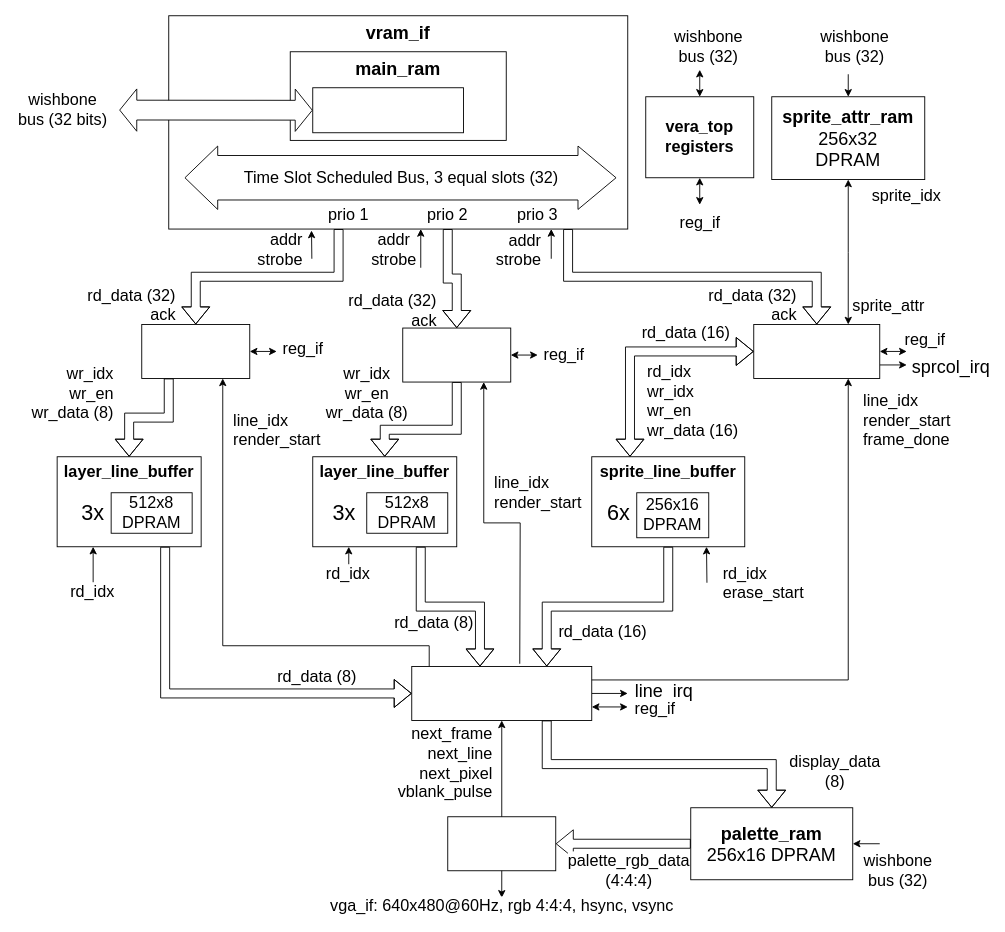
Image size: 1005x932. Some labels were removed from this diagram. The centre of each missing label's shape, as x and y in pixels:
128KB DPRAM: the point at 388,110
Composer: the point at 501,693
Layer 0 Renderer: the point at 195,351
Layer 1 Renderer: the point at 456,354
Sprite Renderer: the point at 816,351
video_vga: the point at 501,843
